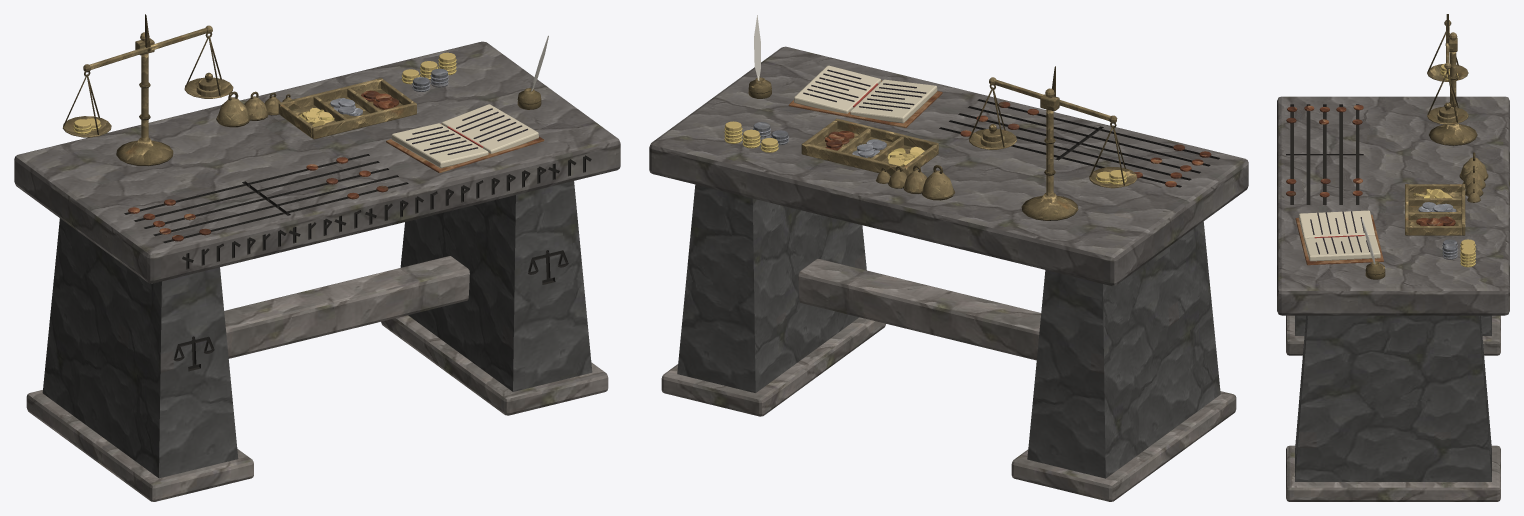
File: bv_counting_table.glb
3 views of the same model, side by side, from view 1: azimuth 30°, elevation 25°; view 2: azimuth 150°, elevation 25°; view 3: azimuth 270°, elevation 25° (orthographic). The views are drawn at different scales.
Parts seen in each view (by area): view 1: model; view 2: model; view 3: model.
Boxes of the visible parts, bbox=[...] form: model: bbox=[14, 14, 620, 501]; model: bbox=[649, 15, 1248, 501]; model: bbox=[1277, 14, 1509, 501].
Bounding box in the file's own units: 1.55 × 1.25 × 0.78.
27 materials, 10 textured.
